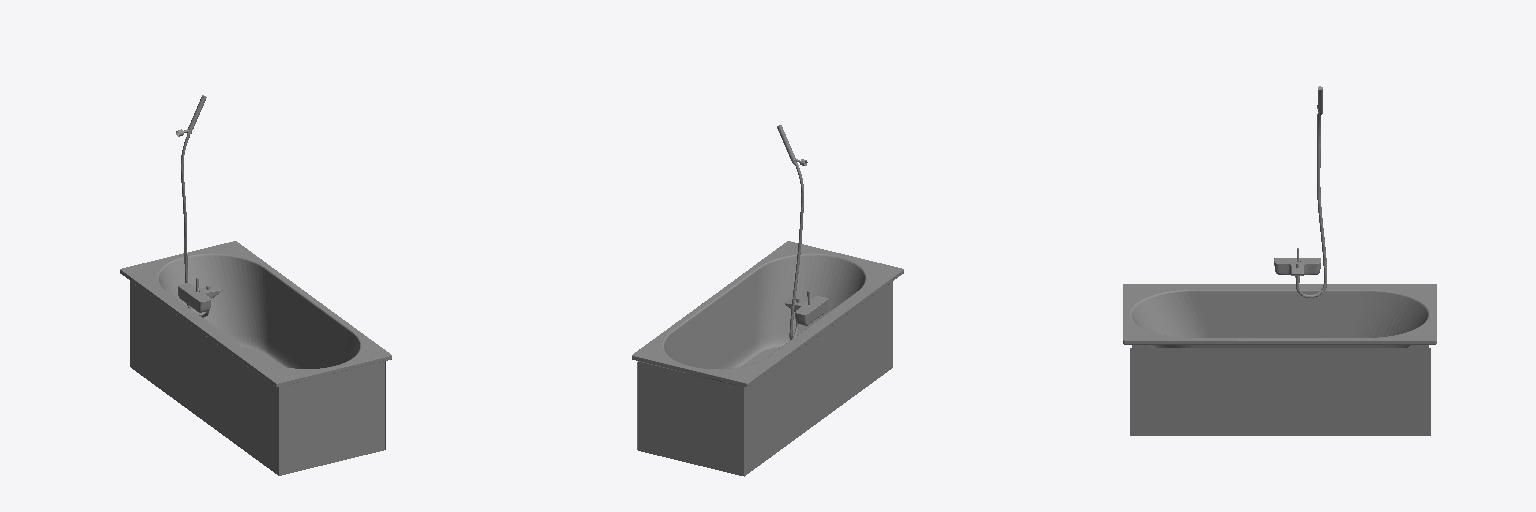
File: Tina.obj
3 renders of one model, left to right at view 1: azimuth 30°, elevation 25°; view 2: azimuth 150°, elevation 25°; view 3: azimuth 270°, elevation 25°, orthographic.
Parts seen in each view (by area): view 1: Krano_cromas, Vonios_keramika, manguera; view 2: Krano_cromas, Vonios_keramika, manguera, Krano_aliuminis; view 3: Krano_cromas, Vonios_keramika, manguera, Krano_aliuminis.
Boxes of the visible parts, x1,y1,x2,y2 form: Krano_cromas: [130, 281, 385, 475]; Vonios_keramika: [120, 241, 391, 386]; manguera: [176, 95, 221, 312]; Krano_cromas: [637, 282, 892, 476]; Vonios_keramika: [632, 241, 903, 386]; manguera: [777, 125, 827, 325]; Krano_aliuminis: [789, 163, 803, 339]; Krano_cromas: [1130, 345, 1430, 435]; Vonios_keramika: [1123, 284, 1436, 347]; manguera: [1274, 86, 1322, 282]; Krano_aliuminis: [1296, 91, 1326, 297].
Size of the model in its own units: 26.23 by 65.96 by 61.06.